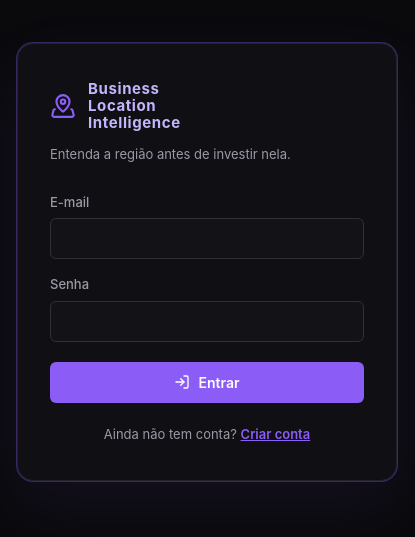
Test: LoginPage › shows a Portuguese message for NETWORK_ERROR and never the raw code or server text
Type "maria@example.com" into the field labelled "E-mail" at point(207, 239), box [50,218,364,259]
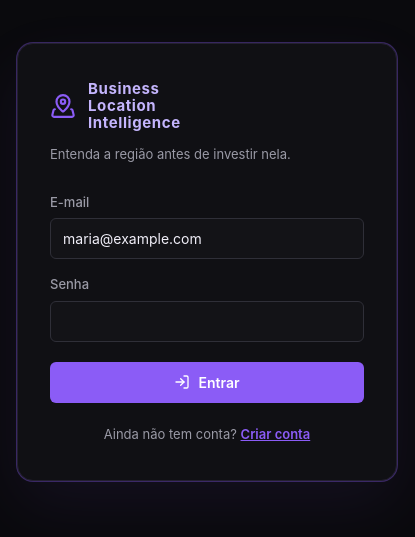
Type "alguma-senha-longa" into the password field labelled "Senha" at point(207, 321), box [50,301,364,342]
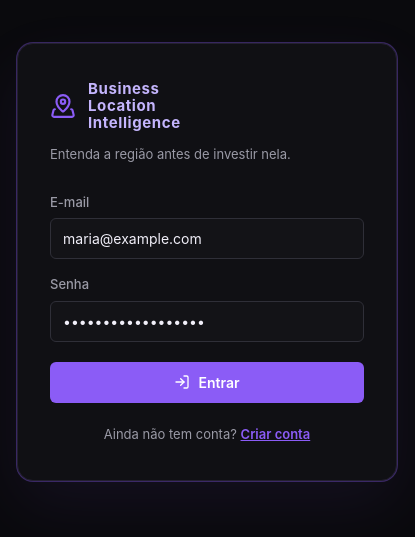
Click the button "Entrar" at point(207, 382), box [50,362,364,403]
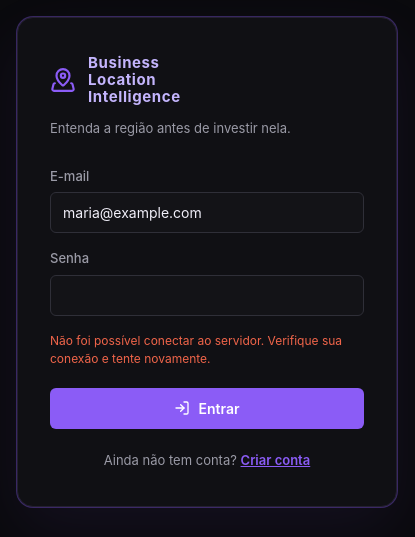
Now the message reads "Não foi possível conectar ao servidor. Verifique sua conexão e tente novamente.", box [50,333,342,366]
